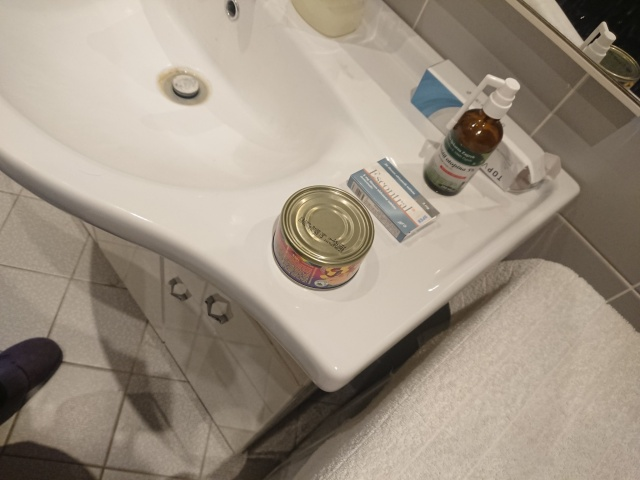Giana Tuna Salad Mexico 185g: (271, 182, 377, 294)
